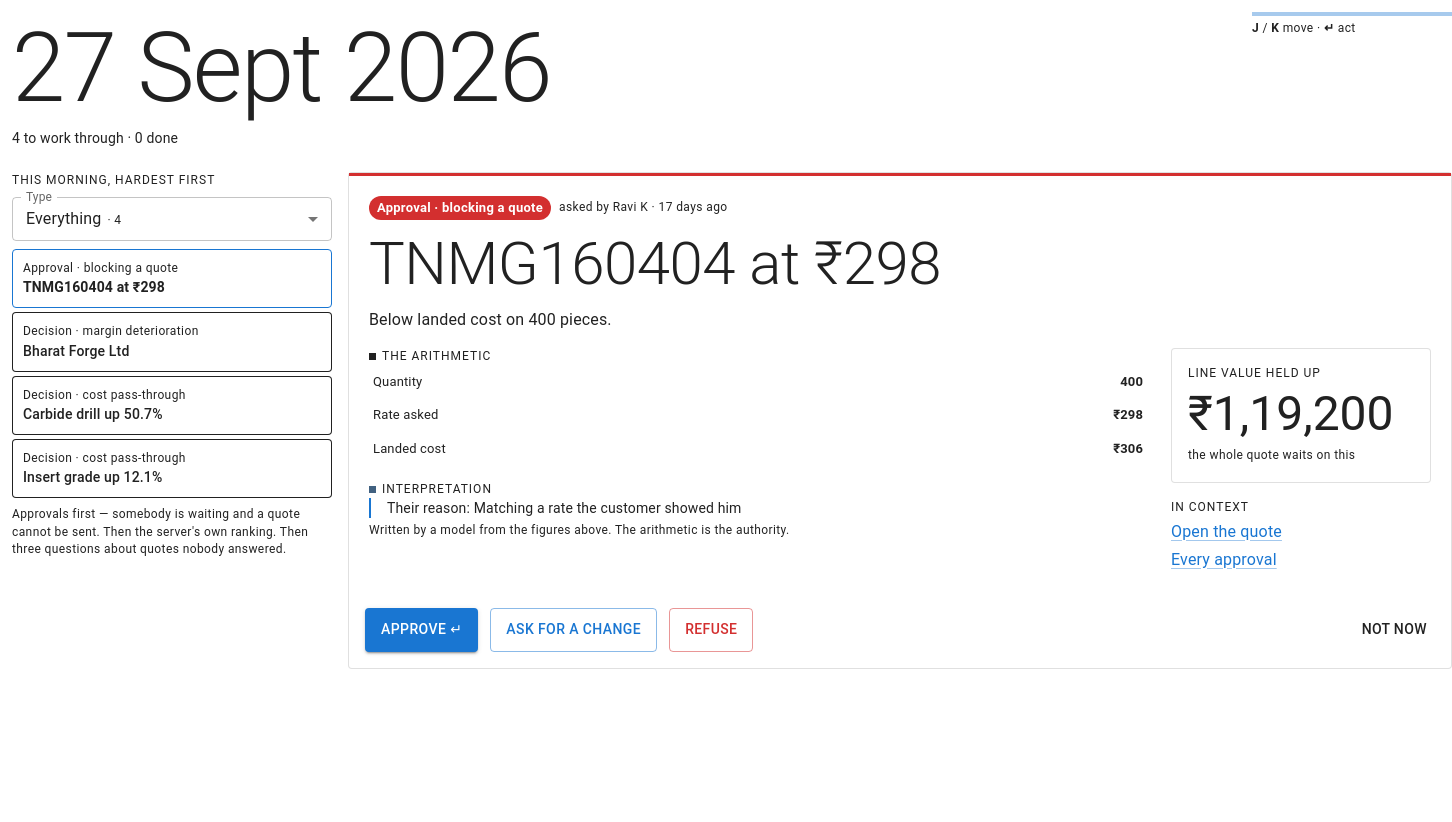
Test: Today › narrows the morning to one type, and starts at the top of what is left
Expected: the heading "TNMG160404 at ₹298" is shown, [369, 228, 941, 299]
Press the mouse on the dropdown named "Type" at (74,219), box [26, 209, 122, 228]
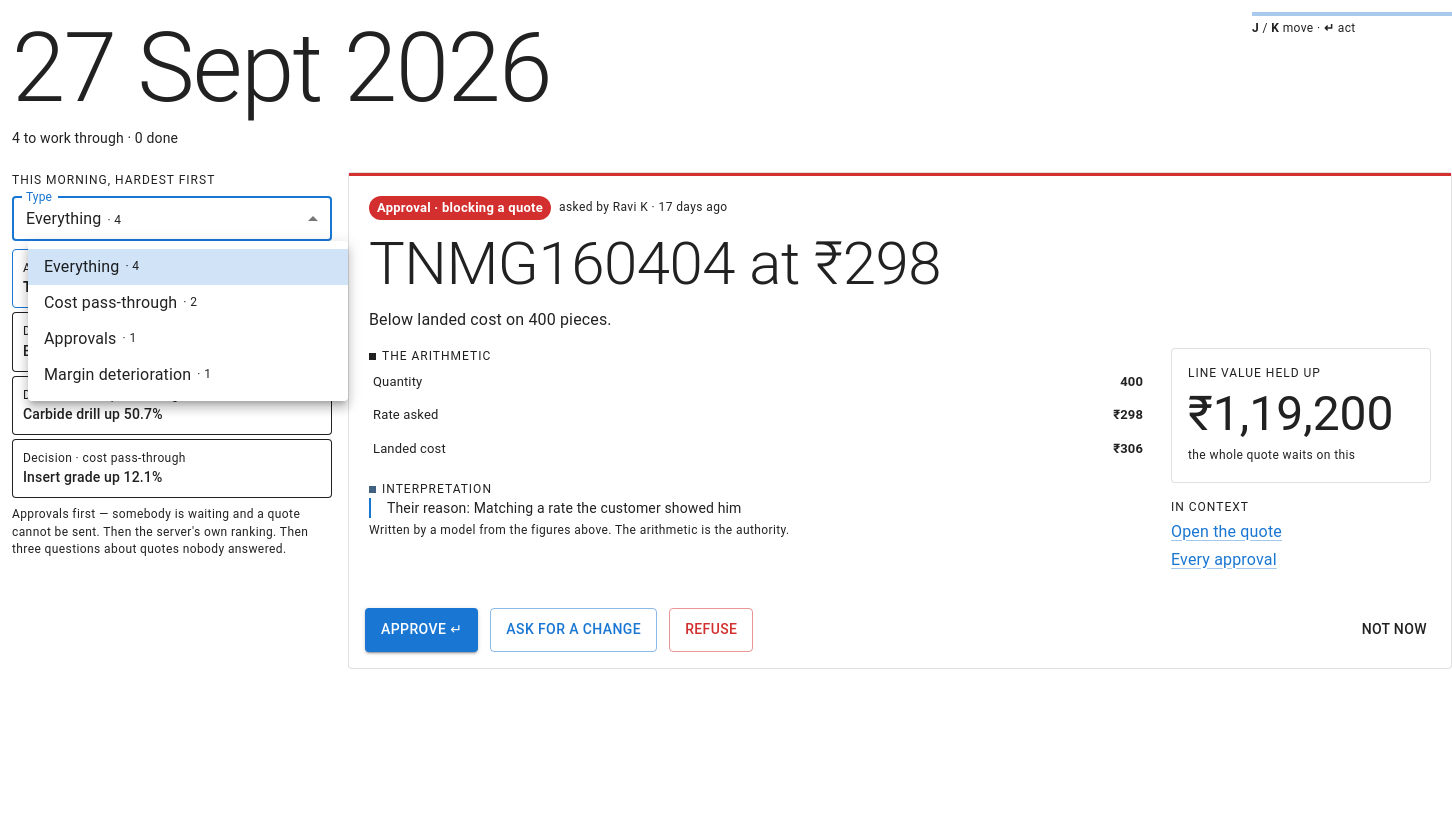
# The count travels with the name: choosing this leaves two.
Click the option "Cost pass-through · 2" at (121,302), box [44, 293, 197, 312]
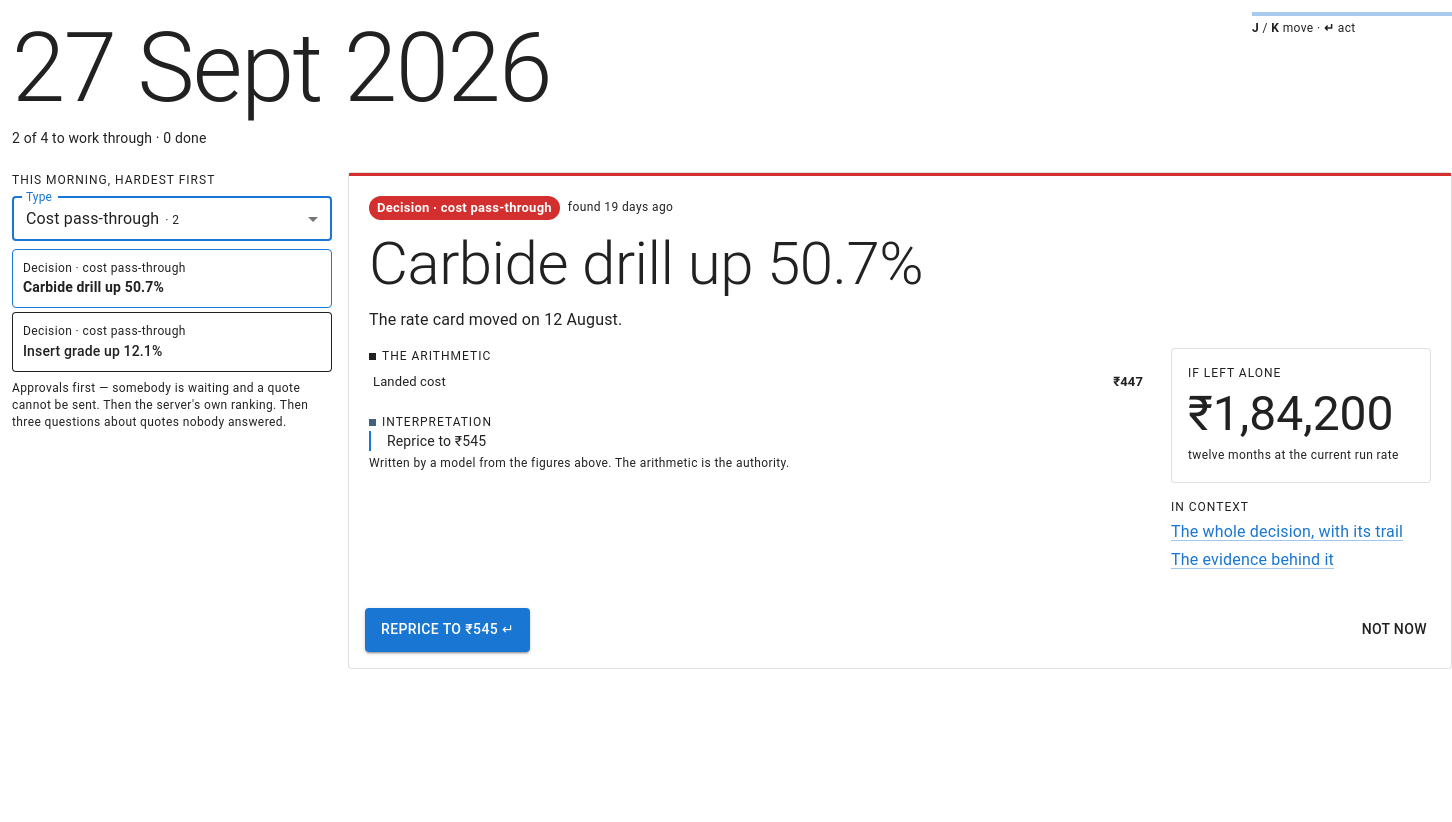
Now the heading "Carbide drill up 50.7%" is shown, box [369, 228, 923, 299]
Now the button "Bharat Forge Ltd" is gone
Now the text "2 of 4 to work through · 0 done" is shown, box [12, 130, 206, 146]
